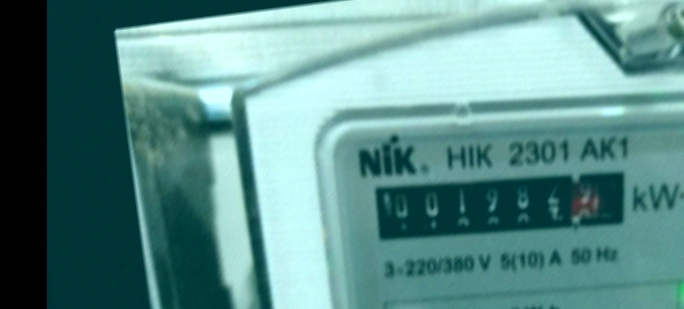0: (422, 185, 443, 216), (392, 186, 412, 217)
1: (454, 182, 470, 212)
2: (544, 173, 565, 204)
8: (514, 178, 534, 208)
9: (575, 174, 599, 205), (483, 181, 502, 212)
screen: (356, 137, 647, 268)
